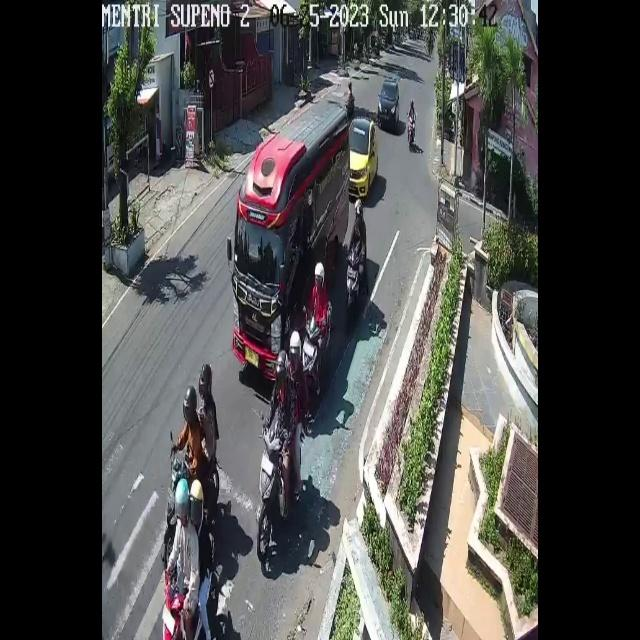bus: (162, 525, 218, 640), (166, 450, 220, 533), (256, 427, 286, 562), (304, 316, 326, 398), (345, 250, 361, 325), (408, 116, 416, 148)
car: (231, 98, 350, 383)
motorcycle: (352, 115, 377, 200), (378, 78, 400, 129)
